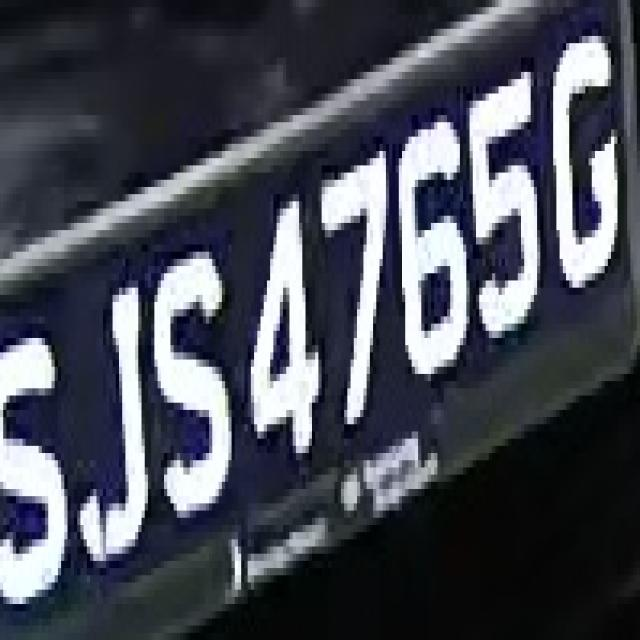4: (228, 173, 325, 482)
5: (453, 72, 547, 352)
6: (386, 93, 466, 410)
7: (312, 137, 396, 446)
G: (544, 29, 627, 309)
J: (58, 252, 157, 582)
S: (144, 216, 234, 554), (6, 302, 64, 633)
